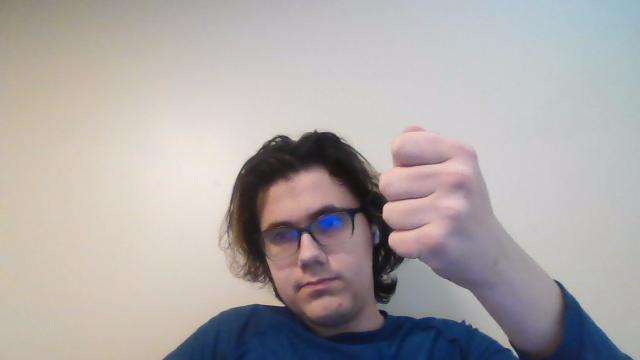Rock: (359, 98, 529, 289)
